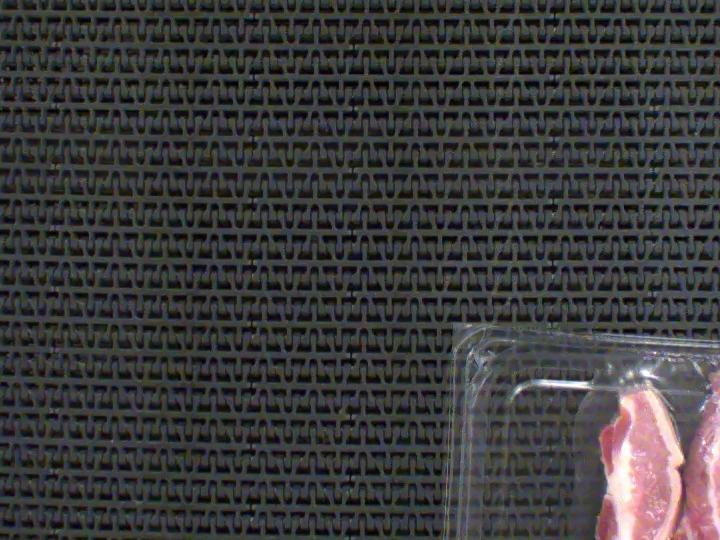unsealed: (563, 338, 720, 540)
